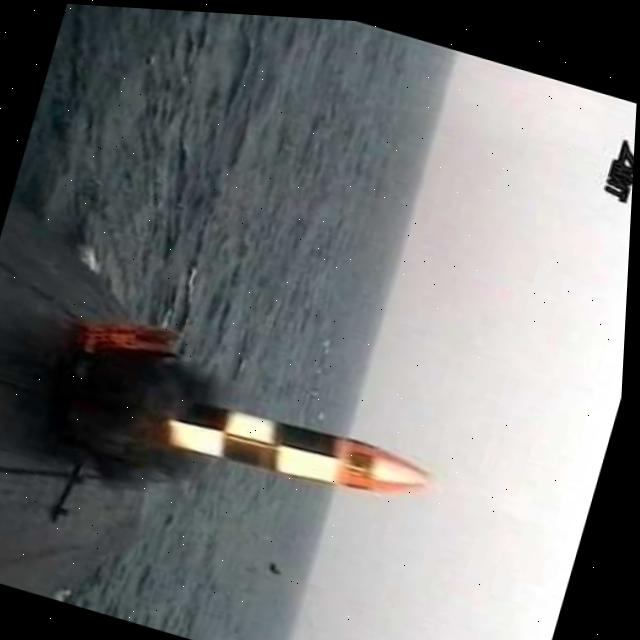missile: (153, 381, 446, 523)
